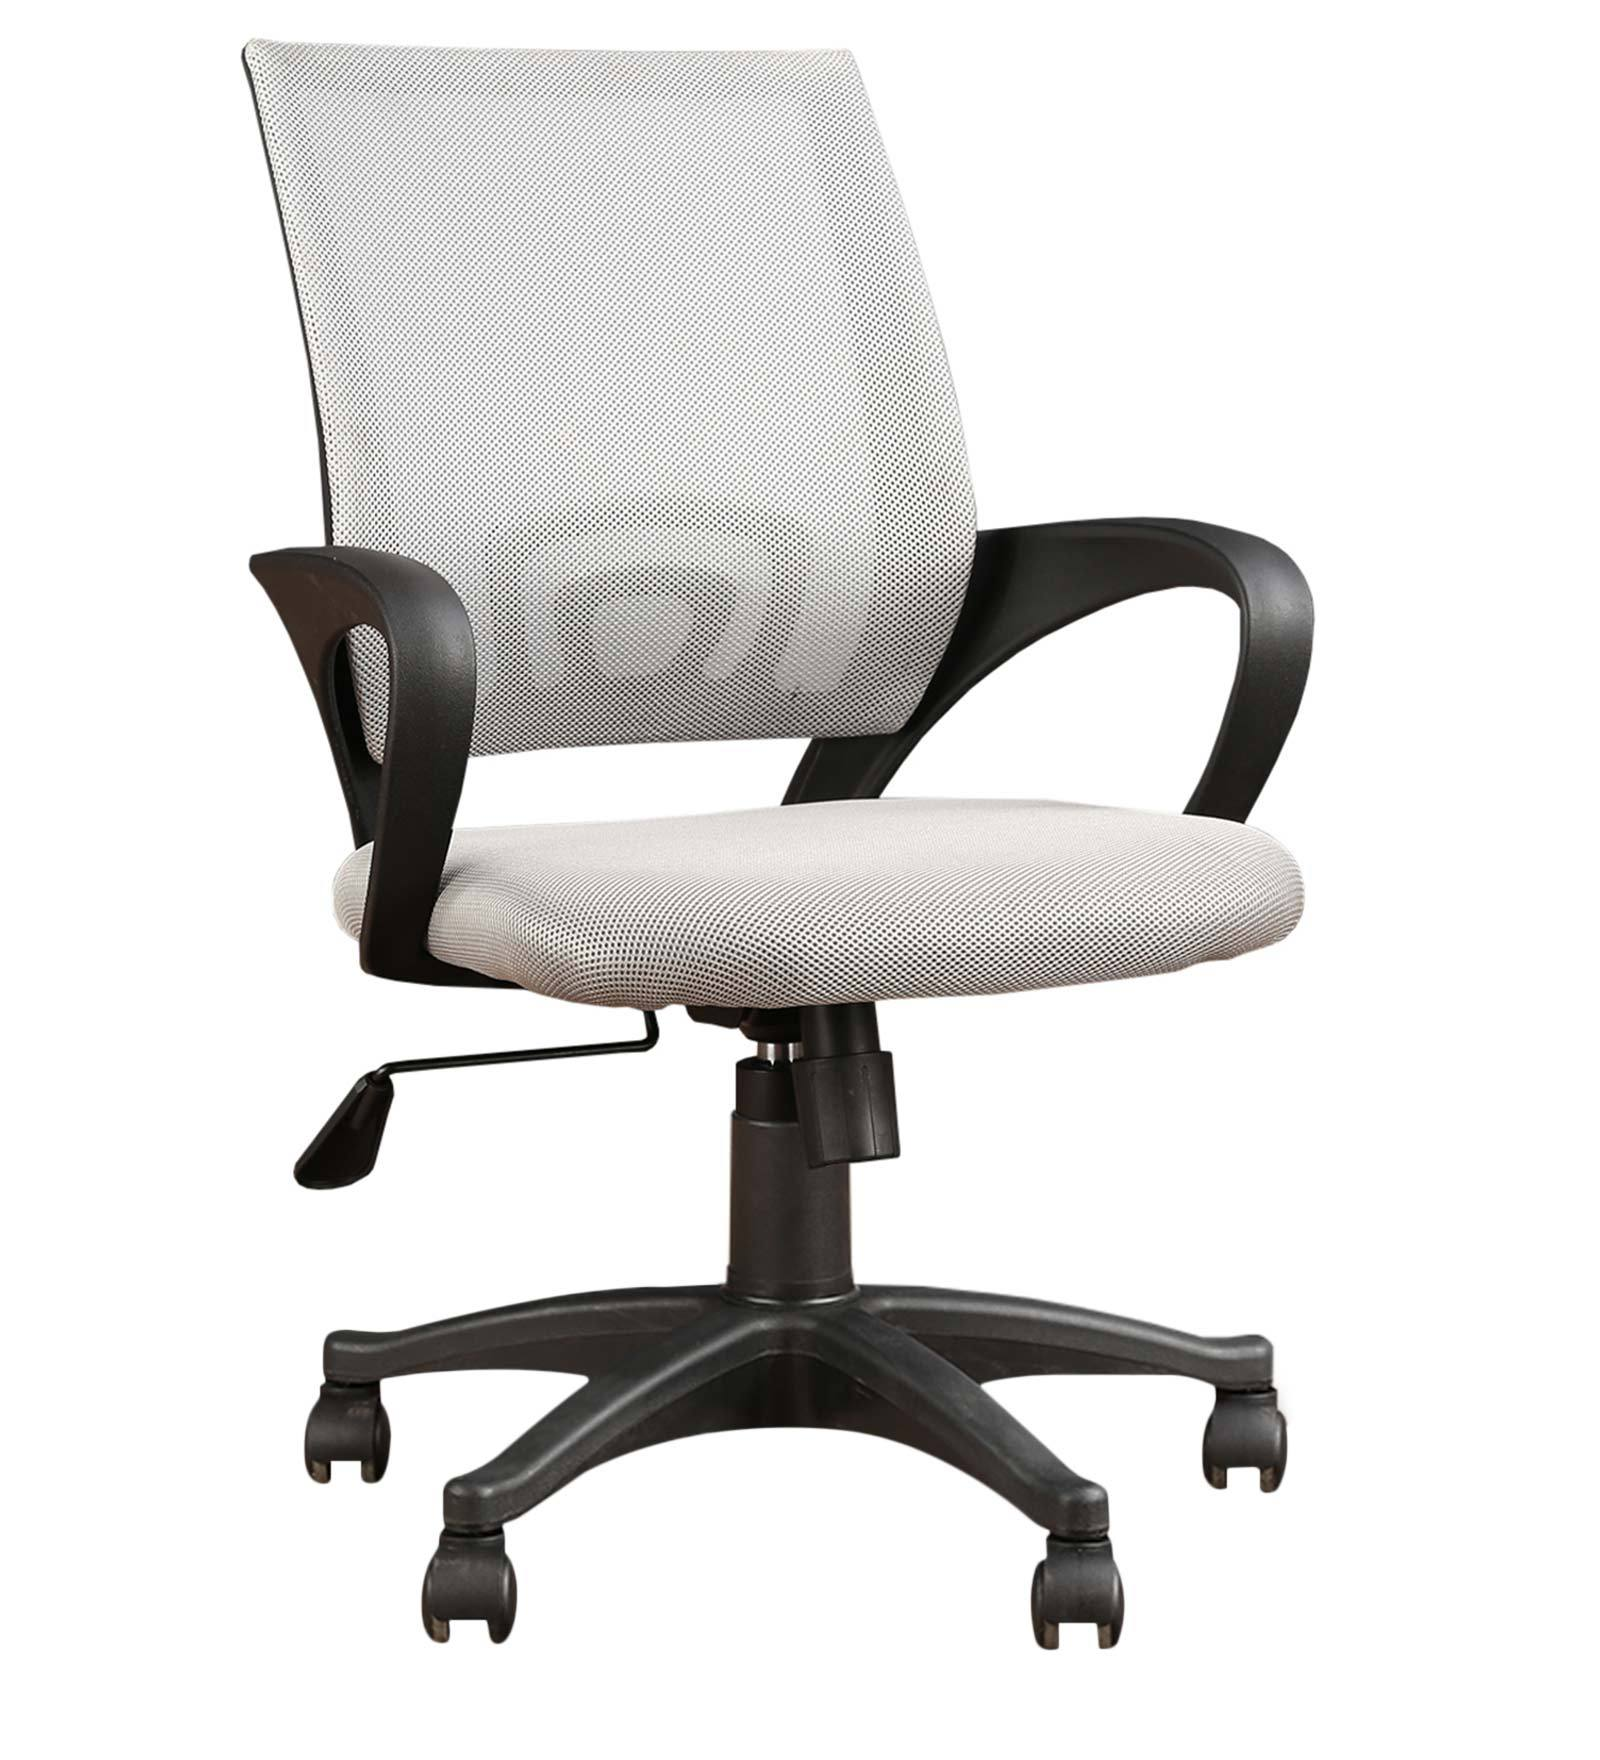Bolton Low Back Ergonomic Chair in Grey Colour by HomeTown: (144, 31, 1344, 1656)
